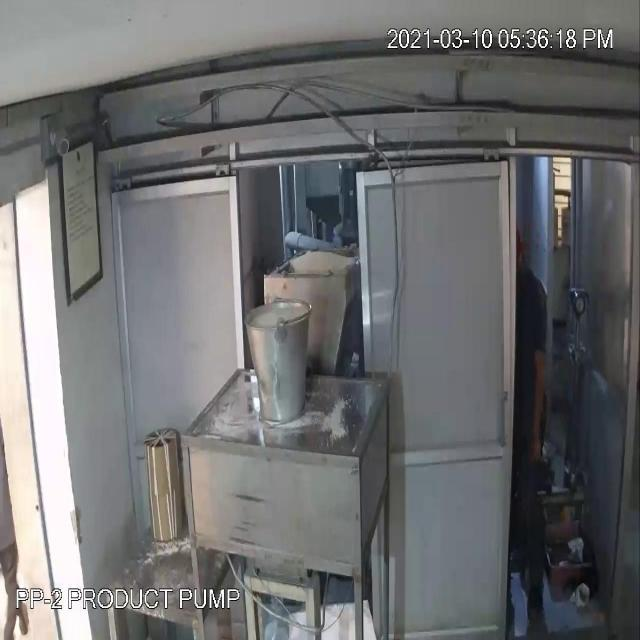No_Gloves: (523, 345, 559, 480)
